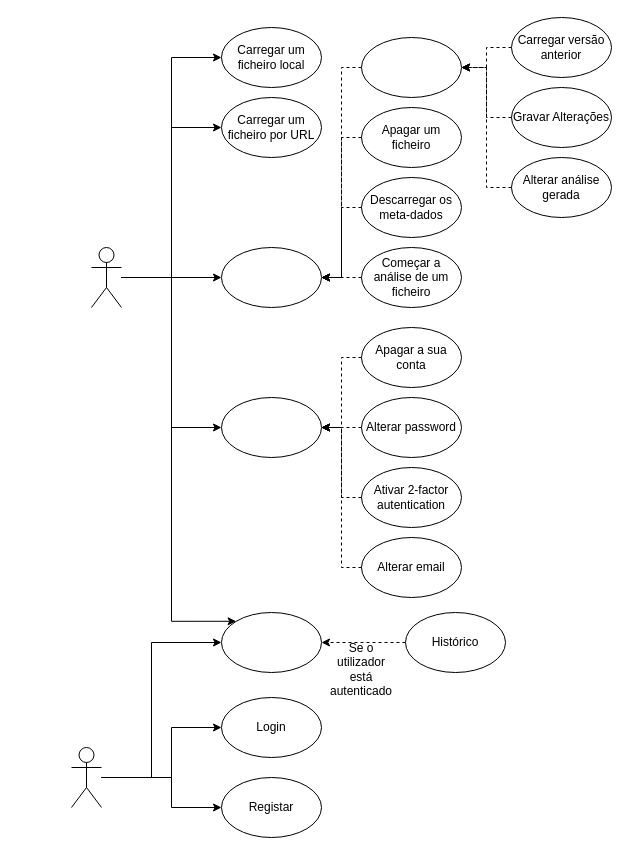
Image size: 629x855. Some labels were removed from this diagram. Here are the shapes that lost their labels. From the top down, the centre of each, then its label:
At [411,67]: "Observar a análise de um ficheiro".
At [106,277]: "Utilizador Autenticado".
At [271,277]: "Aceder aos seus ficheiro carregados".
At [271,427]: "Aceder aos dados da sua conta".
At [271,642]: "Página inicial".
At [86,777]: "Utilizador não Autenticado".
